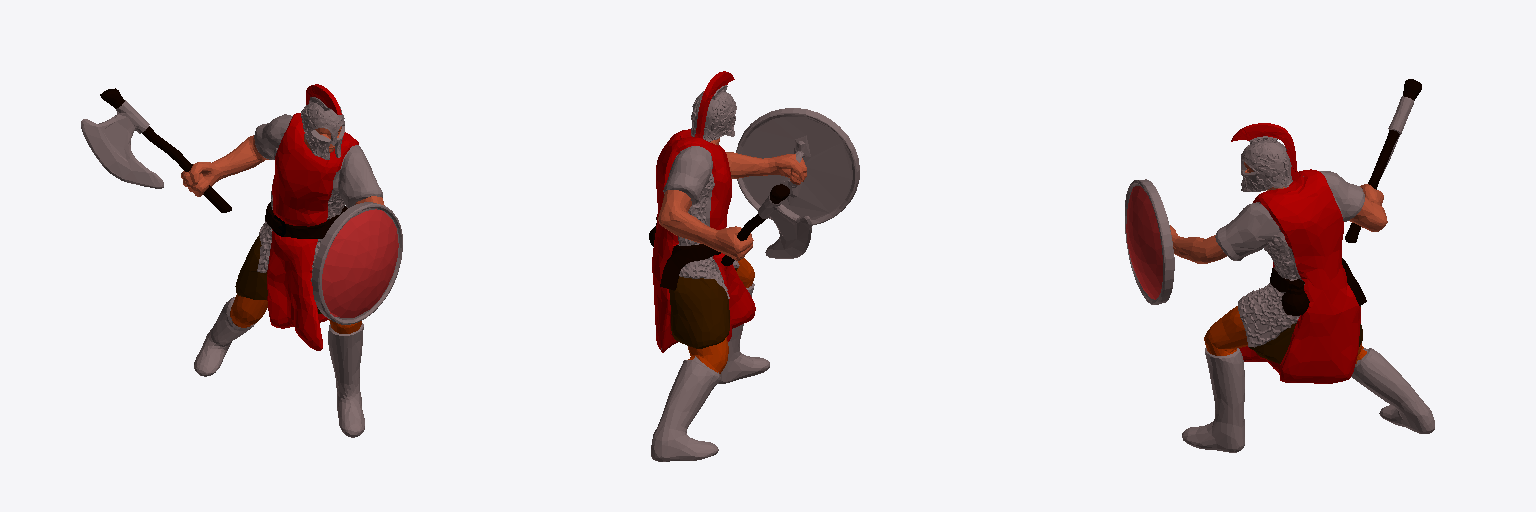
Rendered from armored-man.obj.
The picture shows the model from 3 angles: view 1: azimuth 30°, elevation 25°; view 2: azimuth 150°, elevation 25°; view 3: azimuth 270°, elevation 25°; orthographic projection.
Visible parts, largest first — view 1: armored-man; view 2: armored-man; view 3: armored-man.
Part boxes in pixels (left/top/right/bottom): armored-man: left=81, top=84, right=402, bottom=437; armored-man: left=649, top=71, right=859, bottom=461; armored-man: left=1125, top=79, right=1434, bottom=452.
Size of the model in its own units: 3.4 by 4.78 by 4.2.